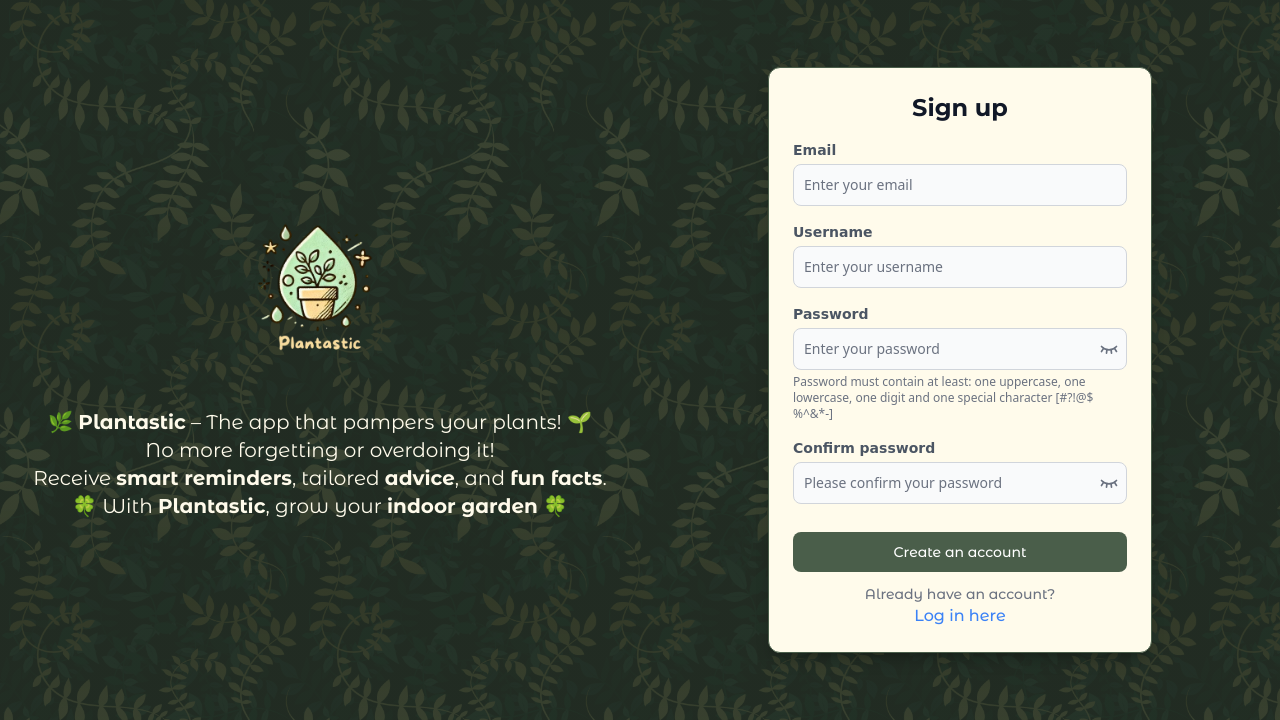
Test case: should show error for weak password
The image size is (1280, 720).
Type "test@example.com" into the field with placeholder "Enter your email" at (960, 185), box 793,164 -> 1127,206
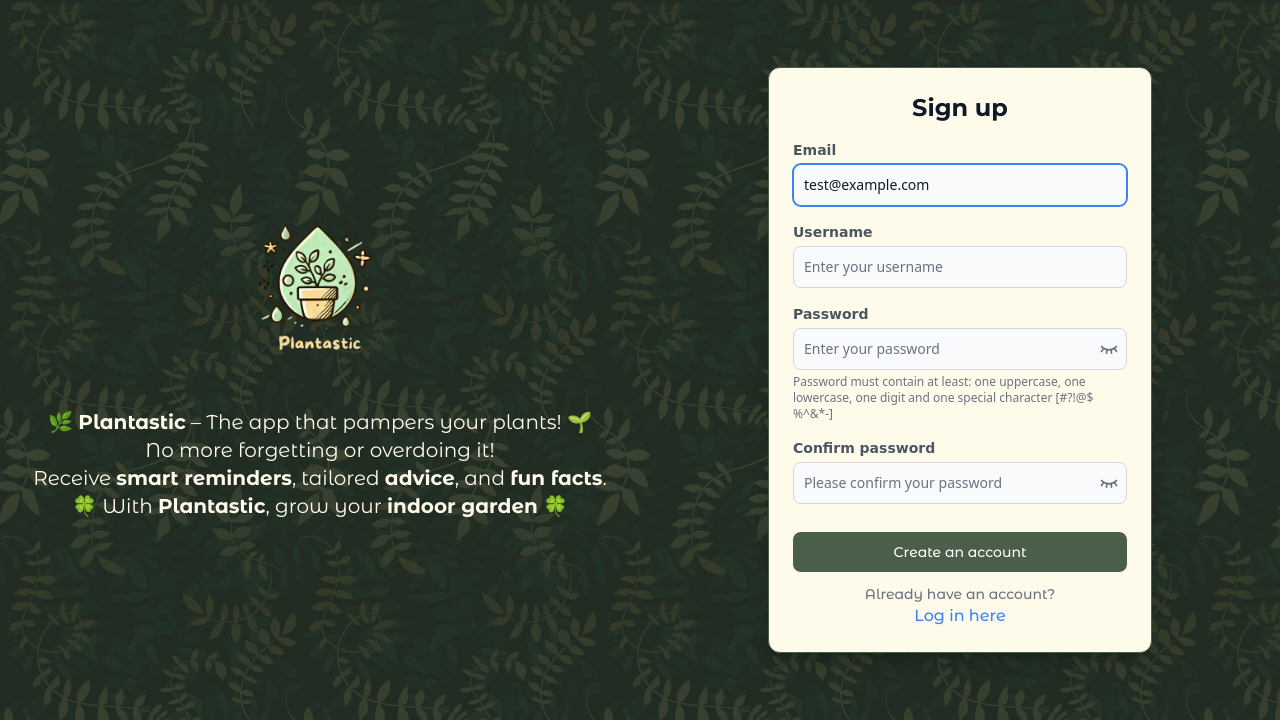
Type "testuser" into the field with placeholder "Enter your username" at (960, 267), box 793,246 -> 1127,288
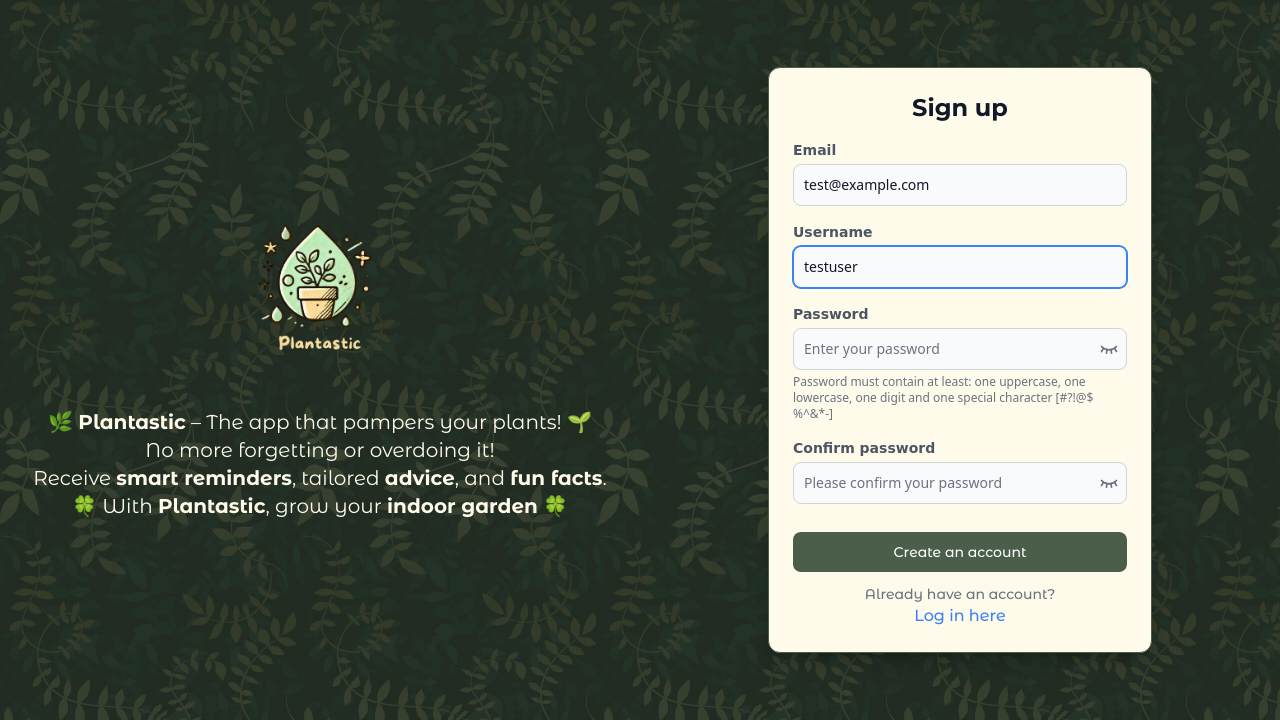
Type "weak" into the password field with placeholder "Enter your password" at (960, 349), box 793,328 -> 1127,370
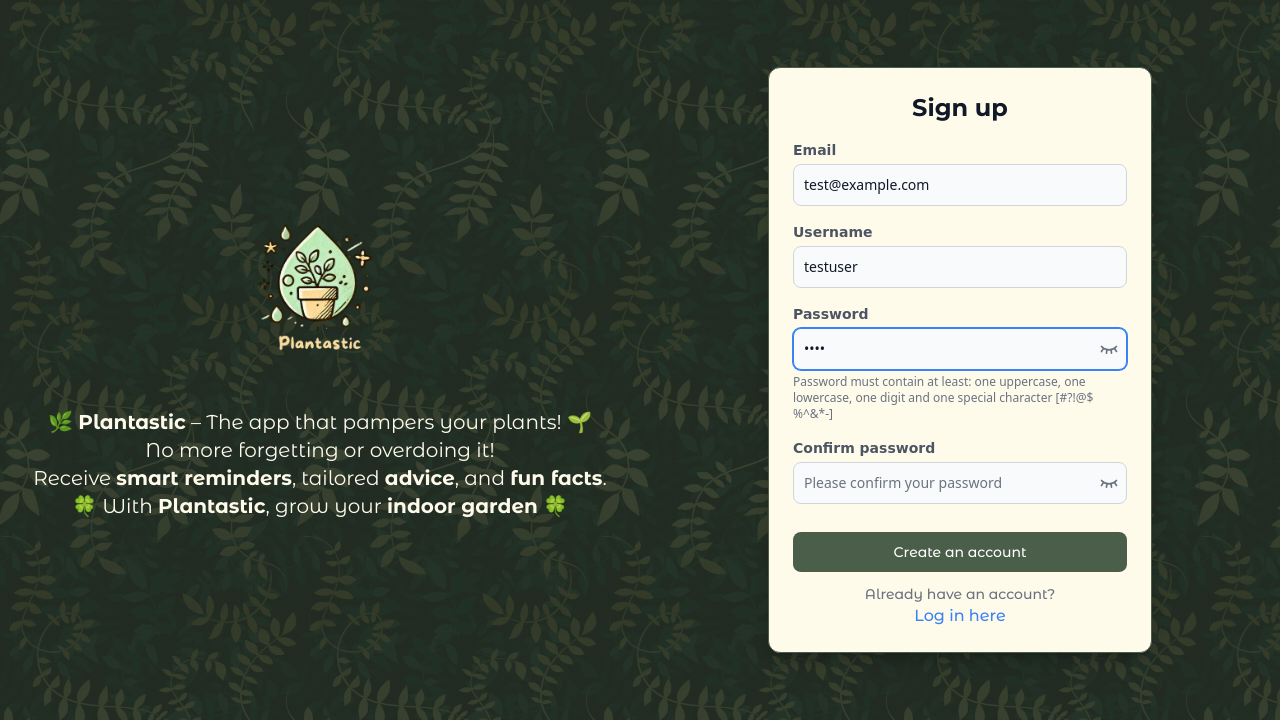
Type "weak" into the password field with placeholder "Please confirm your password" at (960, 483), box 793,462 -> 1127,504
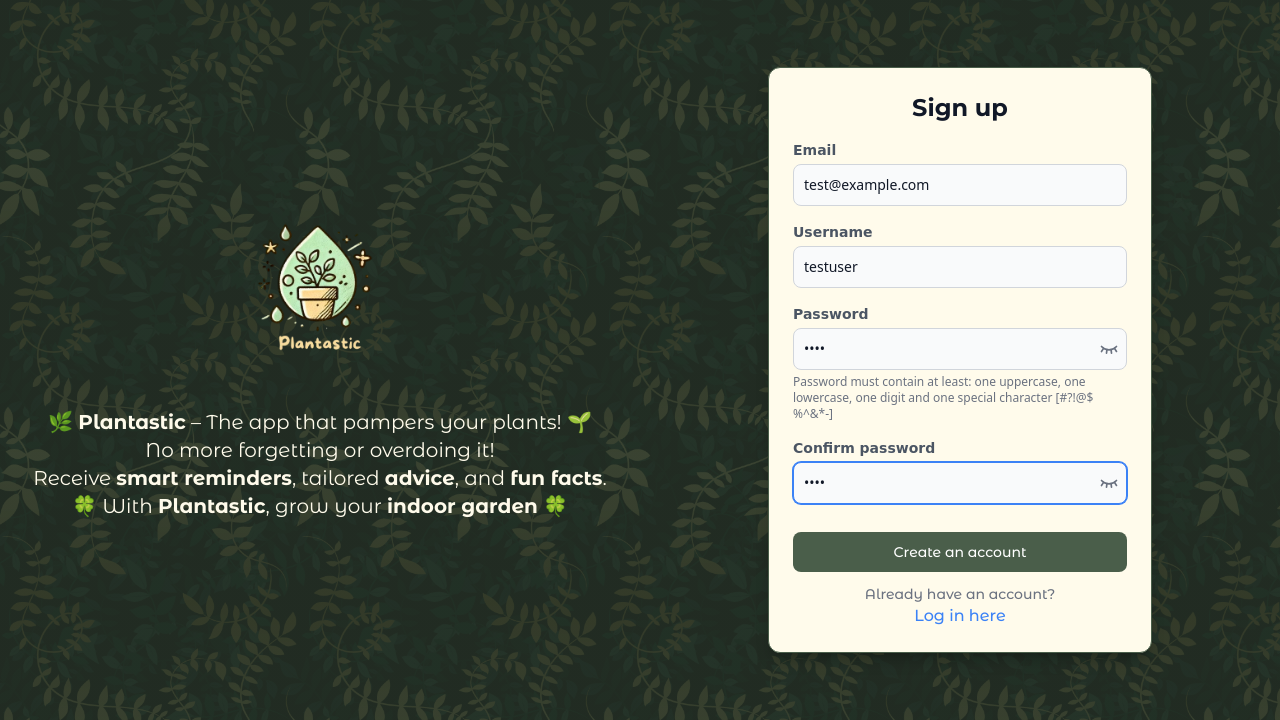
Click the button "Create an account" at (960, 552), box 793,532 -> 1127,572
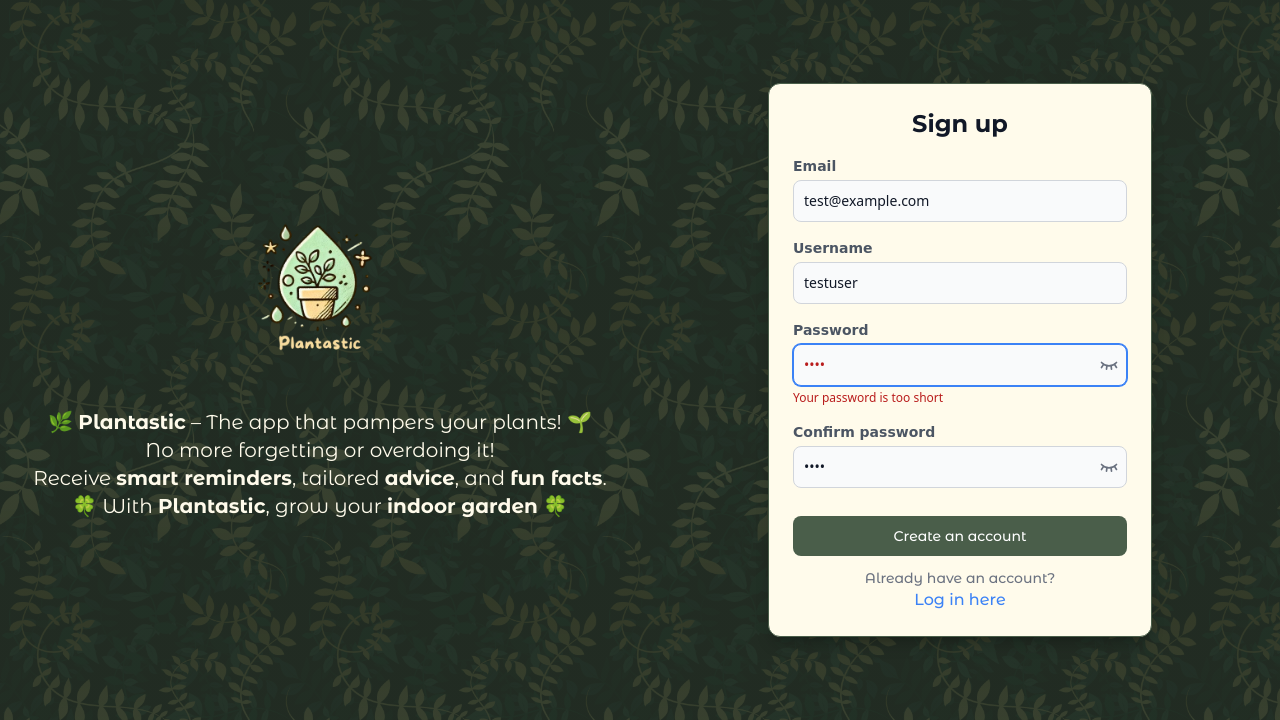
Expected: the text "Your password is too short" is shown, 793,389 -> 943,406
